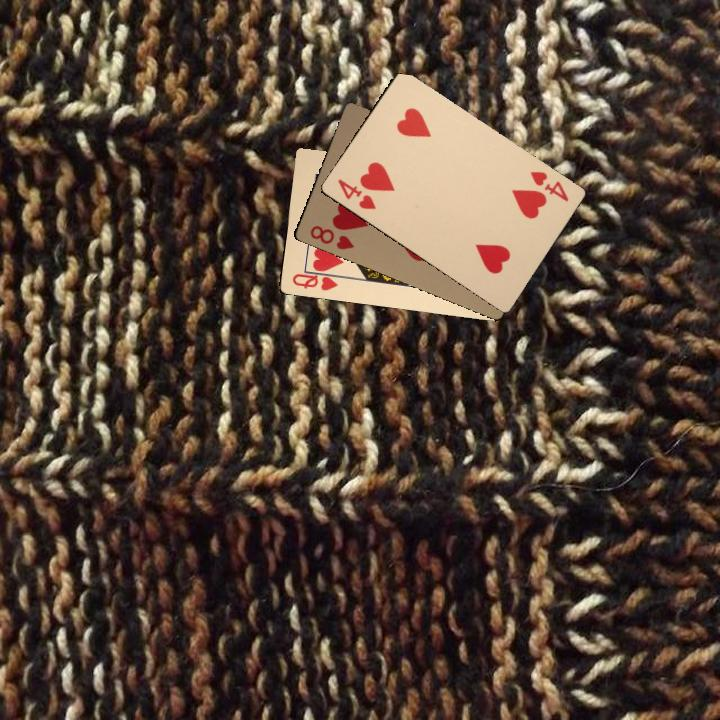4h: (333, 175, 378, 212), (526, 167, 571, 204)
8h: (306, 221, 356, 252)
Qh: (288, 266, 342, 293)
